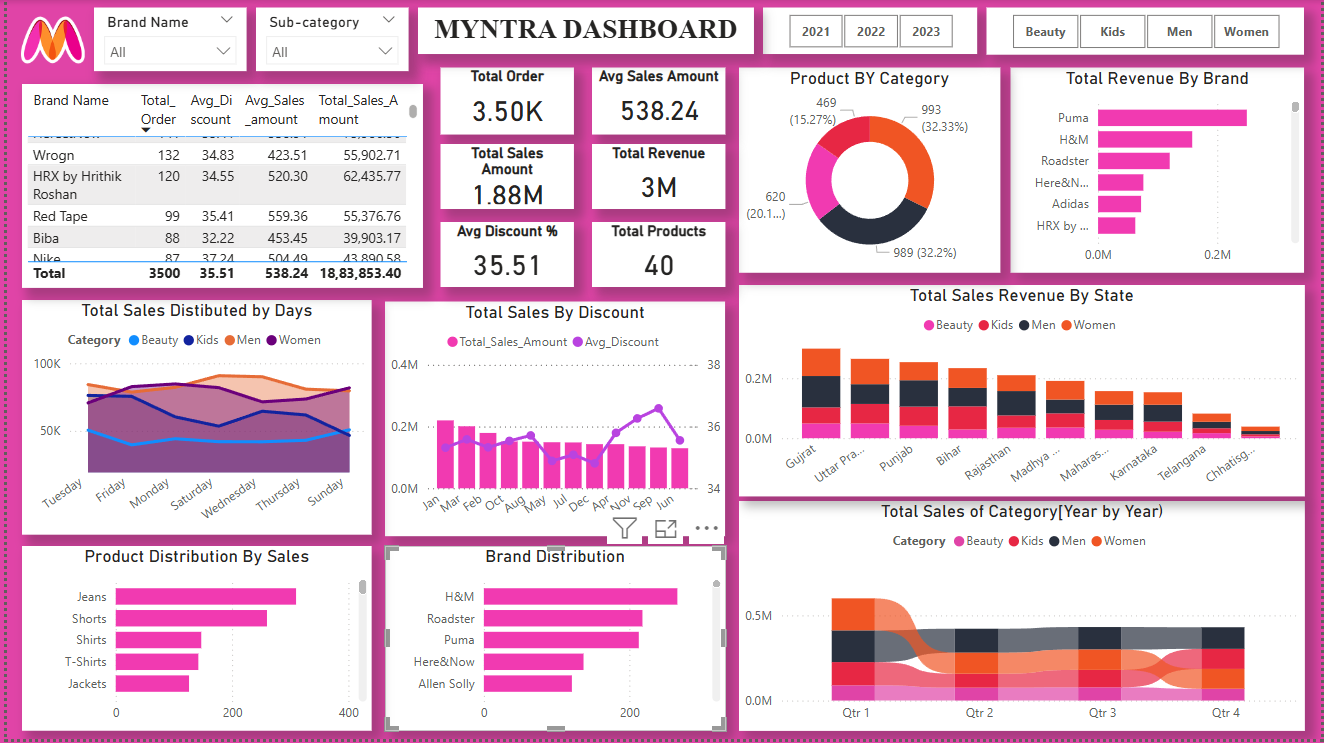

What the dashboard file says about the page in this screenshot:
{"tool":"powerbi","page":{"name":"Myntra Dashboard","canvas":[1280,720],"ordinal":0},"visuals":[{"type":"lineClusteredColumnComboChart","title":"Total Sales By Discount","fields":{"Y":["Key Measures.Total_Sales_Amount"],"Y2":["Key Measures.Avg_Discount"],"Category":["Date Table.Month"]},"box":[368,293.8,331.6,228.6],"z":0},{"type":"barChart","title":"Total Revenue By Brand","fields":{"Category":["dim_products.Brand Name"],"Y":["Key Measures.Total_Sales_Amount"]},"box":[978.2,65.1,286.2,199.9],"z":1000},{"type":"barChart","title":"Brand Distribution","fields":{"Category":["dim_products.Brand Name"],"Y":["dim_products.Brand Name"]},"box":[368,531.5,331.6,180.2],"z":2000},{"type":"areaChart","title":"Total Sales Distibuted by Days","fields":{"Category":["Date Table.Weekday"],"Y":["Key Measures.Total_Sales_Amount"],"Series":["dim_products.Category"]},"box":[15.1,292.2,340.7,228.6],"z":3000},{"type":"ribbonChart","title":"Total Sales of Category[Year by Year)","fields":{"Y":["Key Measures.Total_Sales_Amount"],"Series":["dim_products.Category"],"Category":["Date Table.Date.Variation.Date Hierarchy.Quarter","Date Table.Date.Variation.Date Hierarchy.Month","Date Table.Date.Variation.Date Hierarchy.Day"]},"box":[713.2,487.6,551.2,224.1],"z":4000},{"type":"columnChart","title":"Total Sales Revenue By State","fields":{"Category":["dim_customers.State"],"Y":["Key Measures.Total_Sales_Amount"],"Series":["dim_products.Category"]},"box":[713.2,277.1,551.2,205.9],"z":5000},{"type":"donutChart","title":"Product BY Category","fields":{"Category":["dim_products.Category"],"Y":["dim_products.Product ID"]},"box":[713.2,65.1,254.4,199.9],"z":6000},{"type":"barChart","title":"Product Distribution By Sales","fields":{"Category":["dim_products.Product Name"],"Y":["dim_products.Product Name"]},"box":[15.1,531.5,340.7,180.2],"z":7000},{"type":"tableEx","fields":{"Values":["dim_products.Brand Name","Key Measures.Total_Order","Key Measures.Avg_Discount","Key Measures.Avg_Sales_amount","Key Measures.Total_Sales_Amount"]},"box":[15.1,81.8,390.7,198.4],"z":8000},{"type":"card","title":"Total Order","fields":{"Values":["Key Measures.Total_Order"]},"box":[422.5,65.1,130.2,65.1],"z":9000},{"type":"card","title":"Avg Sales Amount","fields":{"Values":["Key Measures.Avg_Sales_amount"]},"box":[569.3,65.1,130.2,65.1],"z":10000},{"type":"card","title":"Total Sales Amount","fields":{"Values":["Key Measures.Total_Sales_Amount"]},"box":[422.5,140.8,130.2,63.6],"z":11000},{"type":"card","title":"Total Revenue","fields":{"Values":["Key Measures.Sum_Orginal_price"]},"box":[569.3,140.8,130.2,63.6],"z":12000},{"type":"card","title":"Avg Discount %","fields":{"Values":["Key Measures.Avg_Discount"]},"box":[422.5,216.5,130.2,63.6],"z":13000},{"type":"card","title":"Total Products","fields":{"Values":["dim_products.Product Name"]},"box":[569.3,216.5,130.2,63.6],"z":14000},{"type":"slicer","fields":{"Values":["Date Table.Year"]},"box":[735.9,7.6,209,45.4],"z":15000},{"type":"slicer","fields":{"Values":["dim_products.Category"]},"box":[955,7.6,309,46],"z":16000},{"type":"slicer","fields":{"Values":["dim_products.Brand Name"]},"box":[84.8,7.6,148.4,62.1],"z":17000},{"type":"slicer","fields":{"Values":["dim_products.Sub-category"]},"box":[242.3,7.6,148.4,62.1],"z":18000},{"type":"textbox","box":[399.8,7.6,327.1,45.4],"z":19000},{"type":"image","box":[4.5,9.1,77.2,65.1],"z":20000}]}

Visuals, with their boxes in screenshot pixels (x1, y1, x2, y2), scaled from the page's 1280x720 canvas onto the 1324x743 screenshot:
"Total Sales By Discount" lineClusteredColumnComboChart: l=381, t=303, r=724, b=539
"Total Revenue By Brand" barChart: l=1012, t=67, r=1308, b=273
"Brand Distribution" barChart: l=381, t=548, r=724, b=734
"Total Sales Distibuted by Days" areaChart: l=16, t=302, r=368, b=537
"Total Sales of Category[Year by Year)" ribbonChart: l=738, t=503, r=1308, b=734
"Total Sales Revenue By State" columnChart: l=738, t=286, r=1308, b=498
"Product BY Category" donutChart: l=738, t=67, r=1001, b=273
"Product Distribution By Sales" barChart: l=16, t=548, r=368, b=734
tableEx - dim_products.Brand Name x Key Measures.Total_Order: l=16, t=84, r=420, b=289
"Total Order" card: l=437, t=67, r=572, b=134
"Avg Sales Amount" card: l=589, t=67, r=724, b=134
"Total Sales Amount" card: l=437, t=145, r=572, b=211
"Total Revenue" card: l=589, t=145, r=724, b=211
"Avg Discount %" card: l=437, t=223, r=572, b=289
"Total Products" card: l=589, t=223, r=724, b=289
slicer - Date Table.Year: l=761, t=8, r=977, b=55
slicer - dim_products.Category: l=988, t=8, r=1307, b=55
slicer - dim_products.Brand Name: l=88, t=8, r=241, b=72
slicer - dim_products.Sub-category: l=251, t=8, r=404, b=72
textbox: l=414, t=8, r=752, b=55
image: l=5, t=9, r=85, b=77
